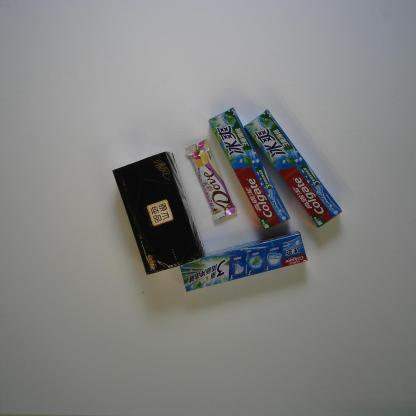Chocolate: (184, 137, 238, 221)
Personal Hygiene: (244, 108, 343, 229), (207, 106, 291, 230), (180, 229, 309, 292)
Tissue: (111, 151, 206, 276)
